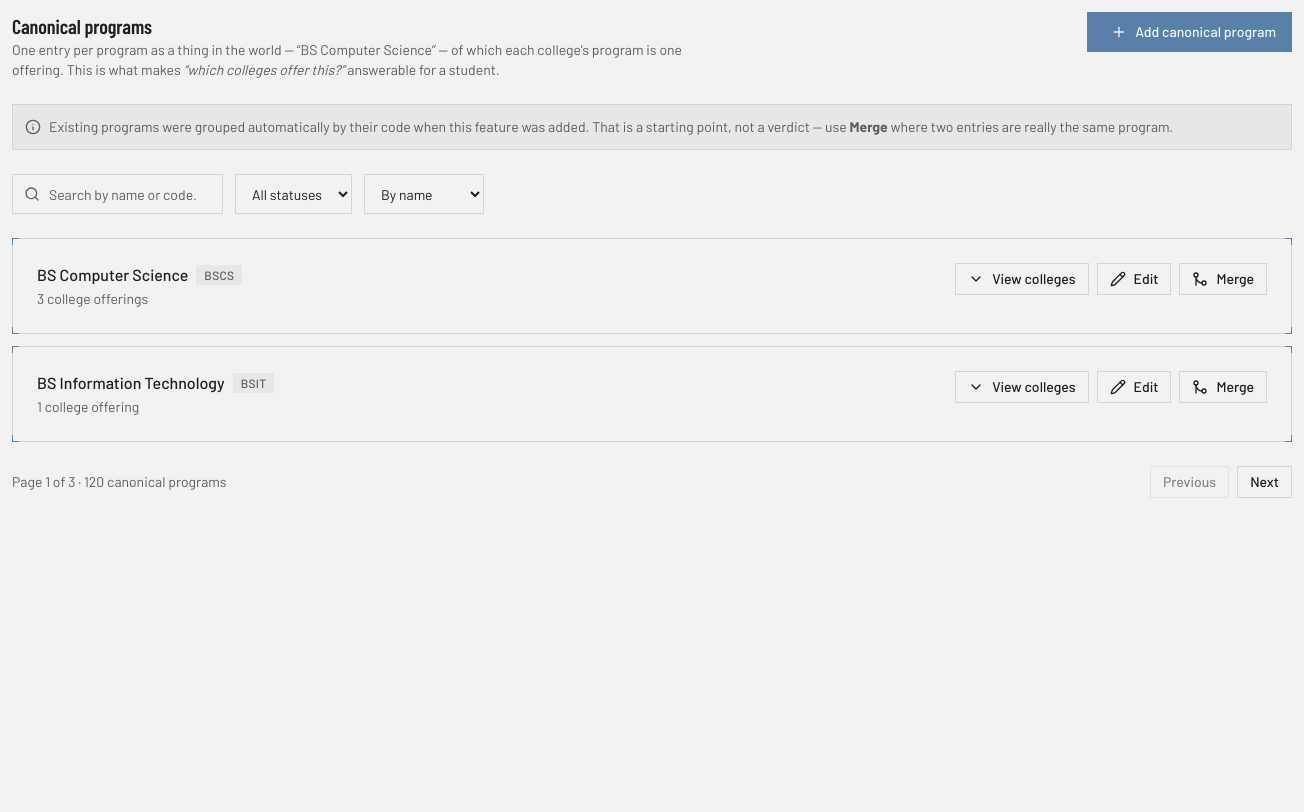
Test case: CanonicalProgramPage — merge target picker › finds a merge target that is not on the current page
Click the button with aria-label "merge bscs" at x=1223, y=279, box x1=1179 y1=263 x2=1267 y2=295
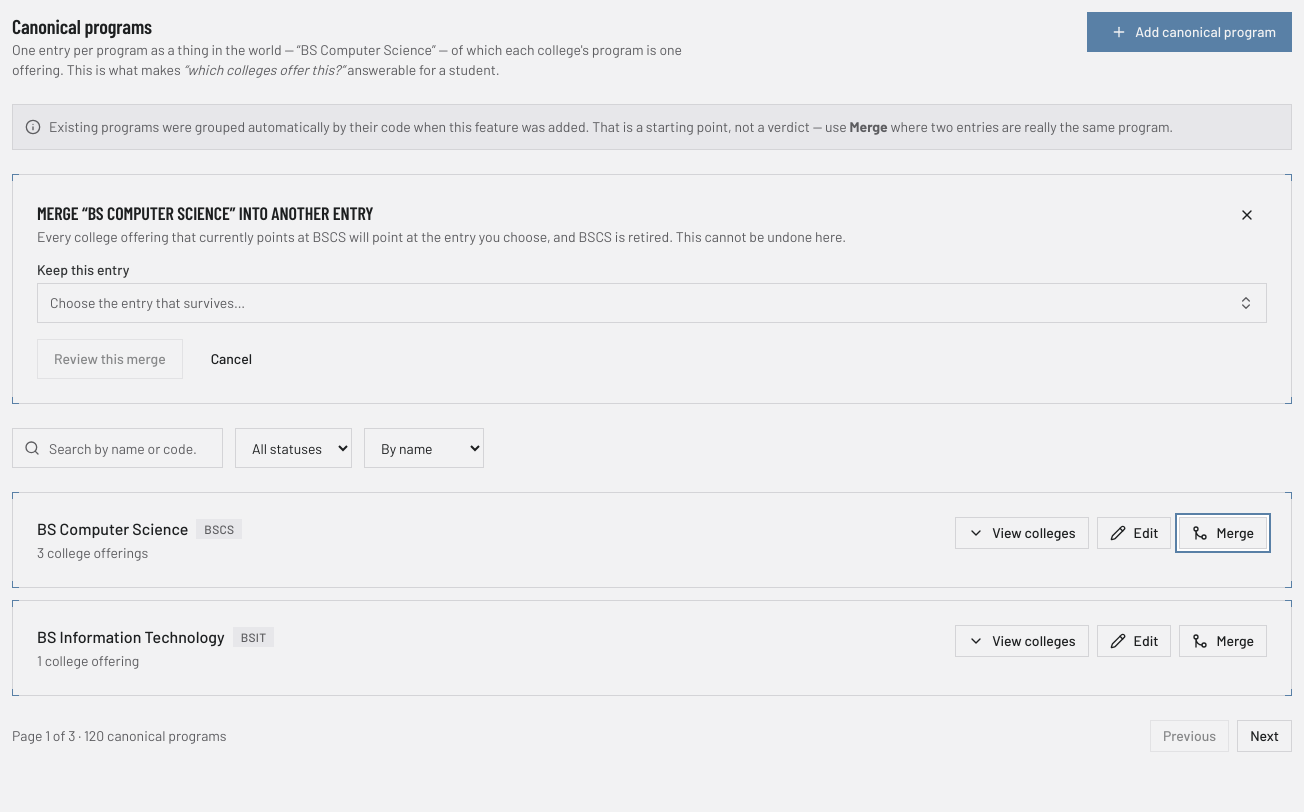
Click the button named "keep this entry" at x=148, y=302, box x1=37 y1=283 x2=1267 y2=323
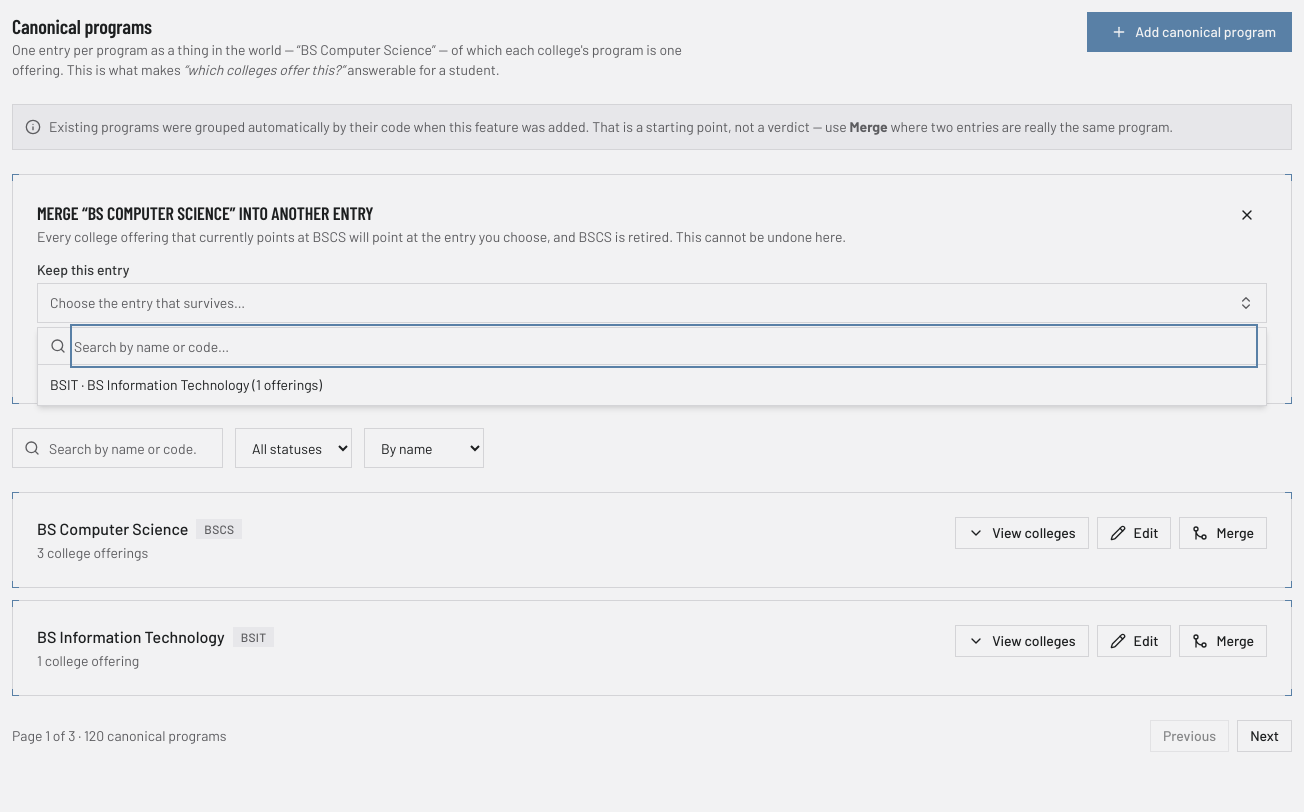
Expected: the option "bscomsci" is not shown
Type "comsci" into the field labelled "Search by name or code…" at x=664, y=346, box x1=74 y1=328 x2=1254 y2=364
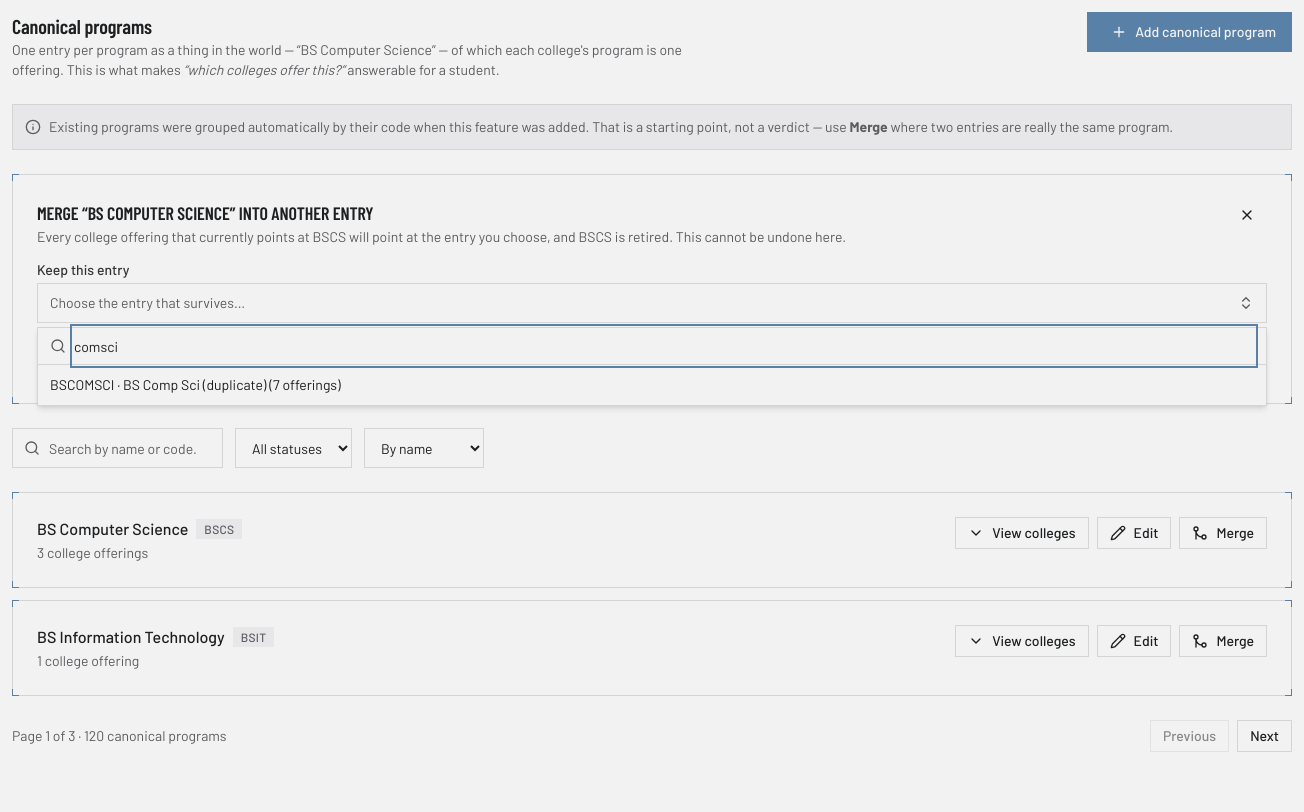
Expected: the option "BSCOMSCI · BS Comp Sci (duplicate) (7 offerings)" is shown, x1=38 y1=369 x2=1266 y2=401
